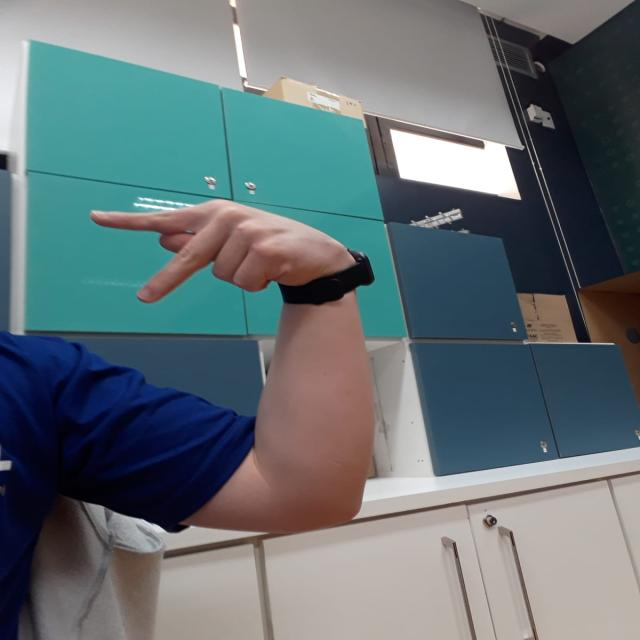P: (75, 180, 413, 328)
